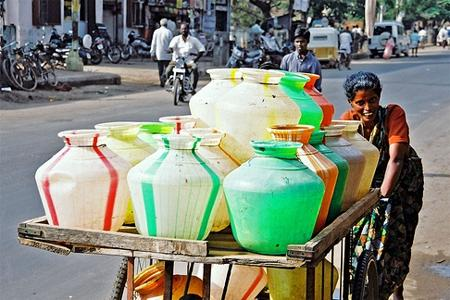person: (338, 73, 425, 300)
